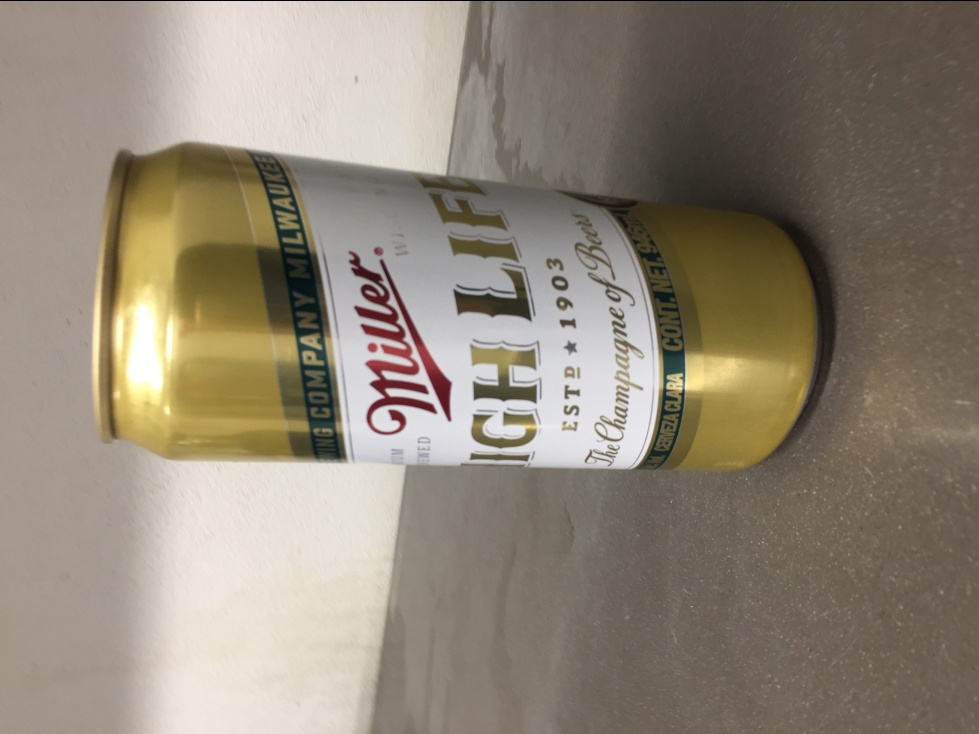miller: (91, 137, 824, 476)
